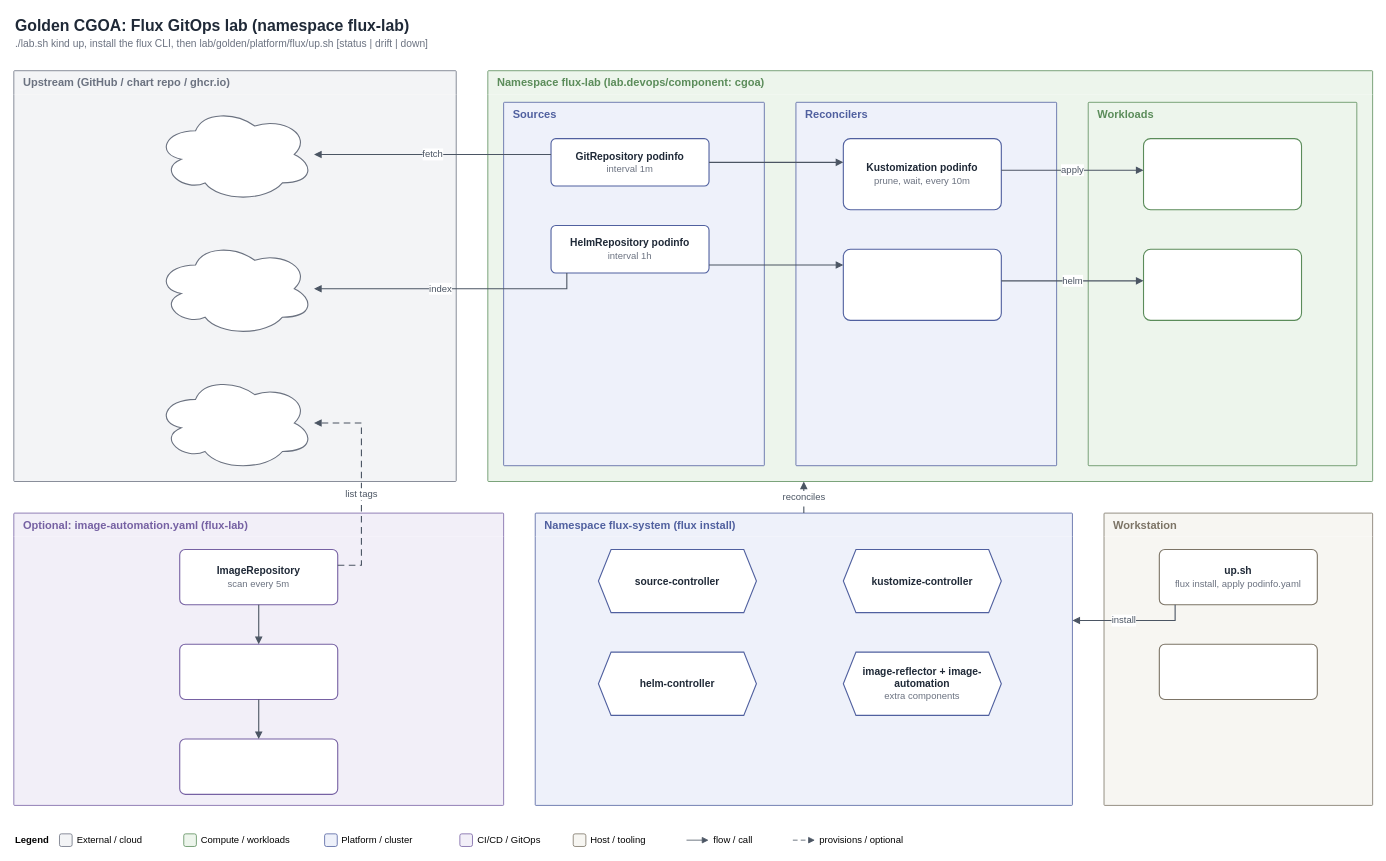
The diagram is 1386 pixels wide and 861 high, and some of its shapes have lost their labels. Each missing label, with the centre of its shape:
Deployment podinfo + Service + HPA: the point at 1222,174
Deployment podinfo-helm 2 replicas, real Helm release: the point at 1222,284
ghcr.io/stefanprodan/podinfo image tags: the point at 234,423
github.com/stefanprodan/podinfo branch master, ./kustomize: the point at 234,154
HelmRelease podinfo-helm chart >=6 <7, driftDetection on: the point at 921,284
ImagePolicy semver 6.x: the point at 258,671
ImageUpdateAutomation commits to your fleet repo: the point at 258,766
stefanprodan.github.io/podinfo Helm chart repo: the point at 234,288
up.sh drift set image 6.0.0 by hand; Flux reverts it: the point at 1237,671
